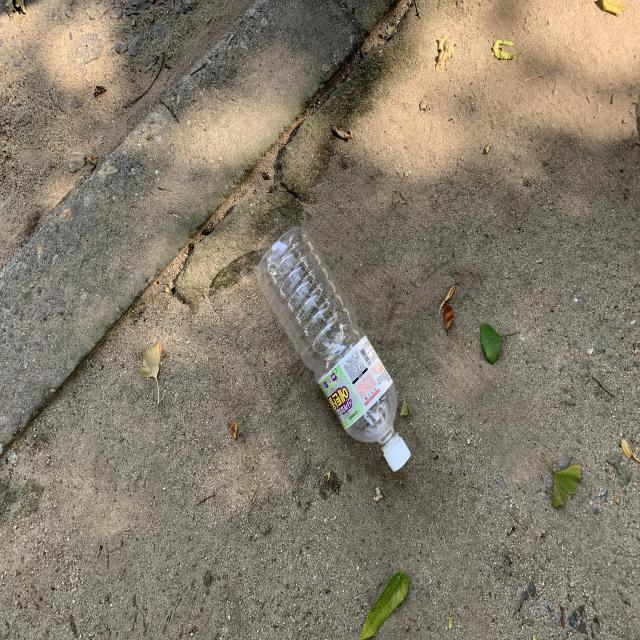plastic: (256, 226, 411, 472)
